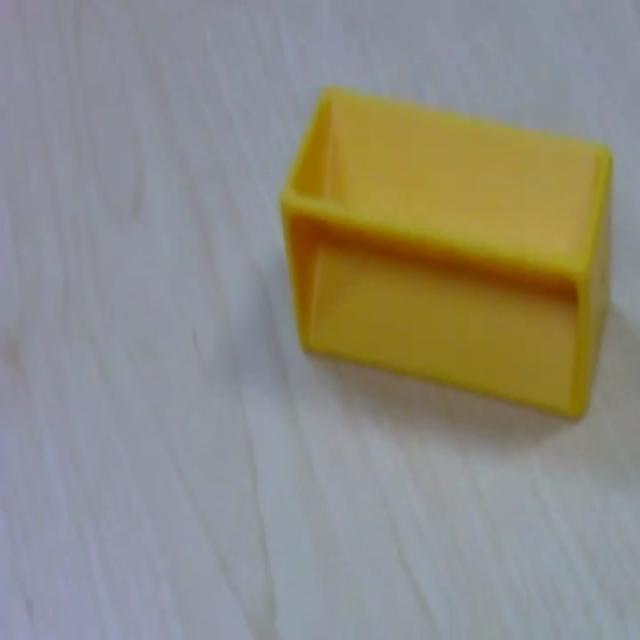yellow_block: (277, 83, 614, 421)
